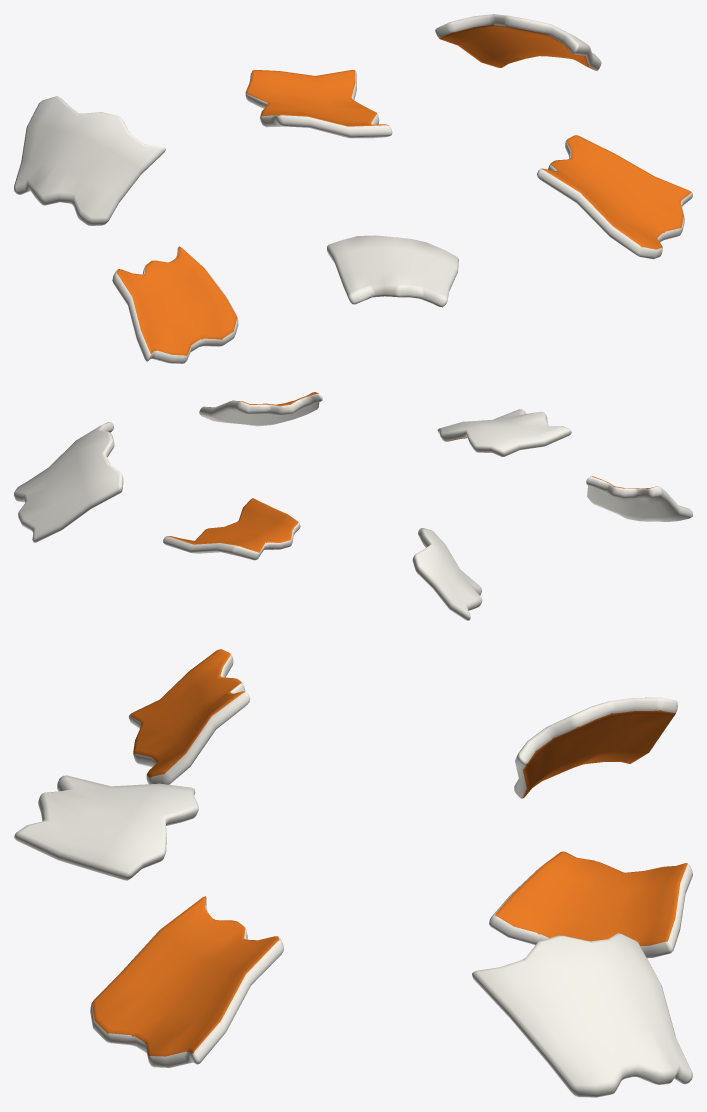
Rendered from absent.glb.
3 renders of one model, top to bottom at view 1: azimuth 30°, elevation 25°; view 2: azimuth 150°, elevation 25°; view 3: azimuth 270°, elevation 25°, orthographic. The views are drawn at different scales.
Parts seen in each view (by area): view 1: curved_vase_shard_3, curved_vase_shard_2, curved_vase_shard_0, curved_vase_shard_1, curved_vase_shard_4, curved_vase_shard_5; view 2: curved_vase_shard_5, curved_vase_shard_4, curved_vase_shard_1, curved_vase_shard_3, curved_vase_shard_0, curved_vase_shard_2; view 3: curved_vase_shard_5, curved_vase_shard_2, curved_vase_shard_4, curved_vase_shard_1, curved_vase_shard_0, curved_vase_shard_3.
Part boxes in pixels (x1,y1,x2,y2): curved_vase_shard_3: [14, 96, 165, 225]; curved_vase_shard_2: [537, 135, 692, 259]; curved_vase_shard_0: [112, 246, 238, 363]; curved_vase_shard_1: [327, 235, 458, 307]; curved_vase_shard_4: [245, 70, 392, 138]; curved_vase_shard_5: [435, 14, 601, 70]; curved_vase_shard_5: [14, 422, 123, 542]; curved_vase_shard_4: [163, 498, 300, 560]; curved_vase_shard_1: [437, 409, 571, 456]; curved_vase_shard_3: [412, 528, 482, 620]; curved_vase_shard_0: [586, 476, 692, 521]; curved_vase_shard_2: [199, 392, 322, 426]; curved_vase_shard_5: [472, 933, 692, 1097]; curved_vase_shard_2: [90, 896, 283, 1067]; curved_vase_shard_4: [489, 851, 692, 958]; curved_vase_shard_1: [14, 775, 198, 880]; curved_vase_shard_0: [128, 649, 250, 784]; curved_vase_shard_3: [514, 697, 677, 798].
Bounding box in the file's own units: 0.3439 × 0.0532 × 0.2556.
